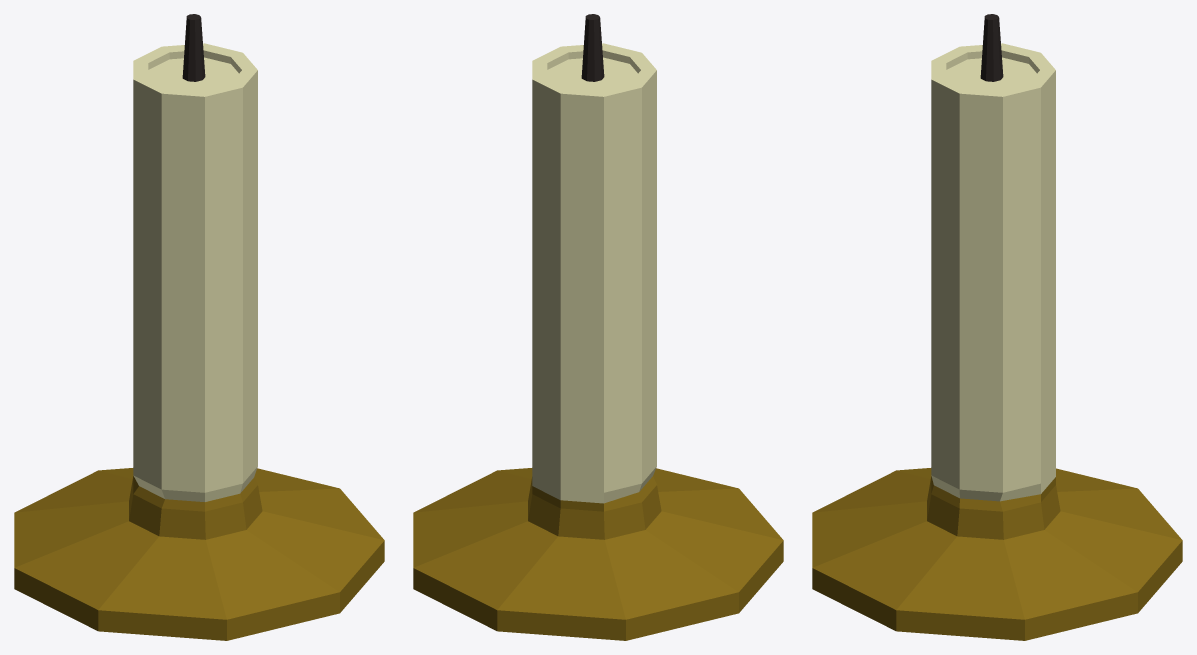
The model's file is vela.fbx.
3 renders of one model, left to right at view 1: azimuth 30°, elevation 25°; view 2: azimuth 150°, elevation 25°; view 3: azimuth 270°, elevation 25°, orthographic.
Visible parts, largest first — view 1: Cylinder; view 2: Cylinder; view 3: Cylinder.
Boxes of the visible parts, x1,y1,x2,y2 form: Cylinder: (14, 14, 384, 640); Cylinder: (413, 14, 783, 640); Cylinder: (812, 14, 1182, 640).
Size of the model in its own units: 51.27 by 81.89 by 50.49.
